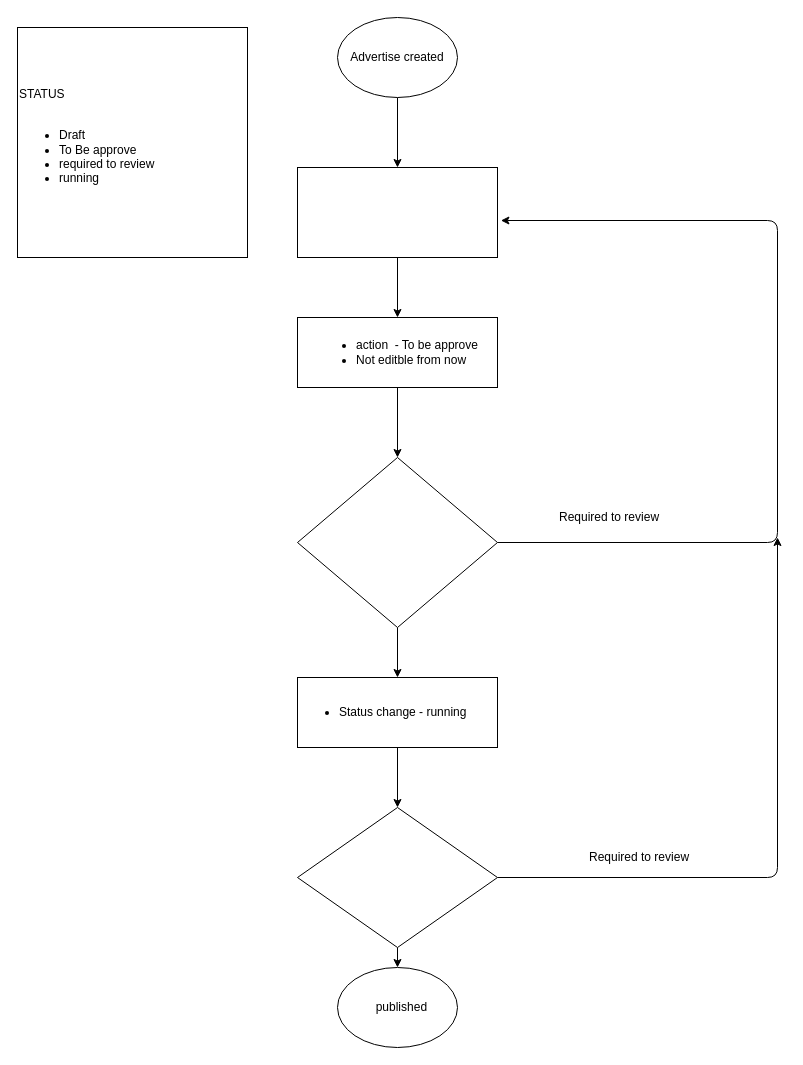
Image size: 803x1065. Some labels were removed from this diagram. The box of each missing label's shape, as (x1, y1, x2, y2) in pixels:
Set location with budget STATUS -Darft: (296, 166, 498, 258)
status - running or review Action - approve or review: (296, 456, 498, 628)
Status change - review or nochange: (296, 806, 498, 948)
